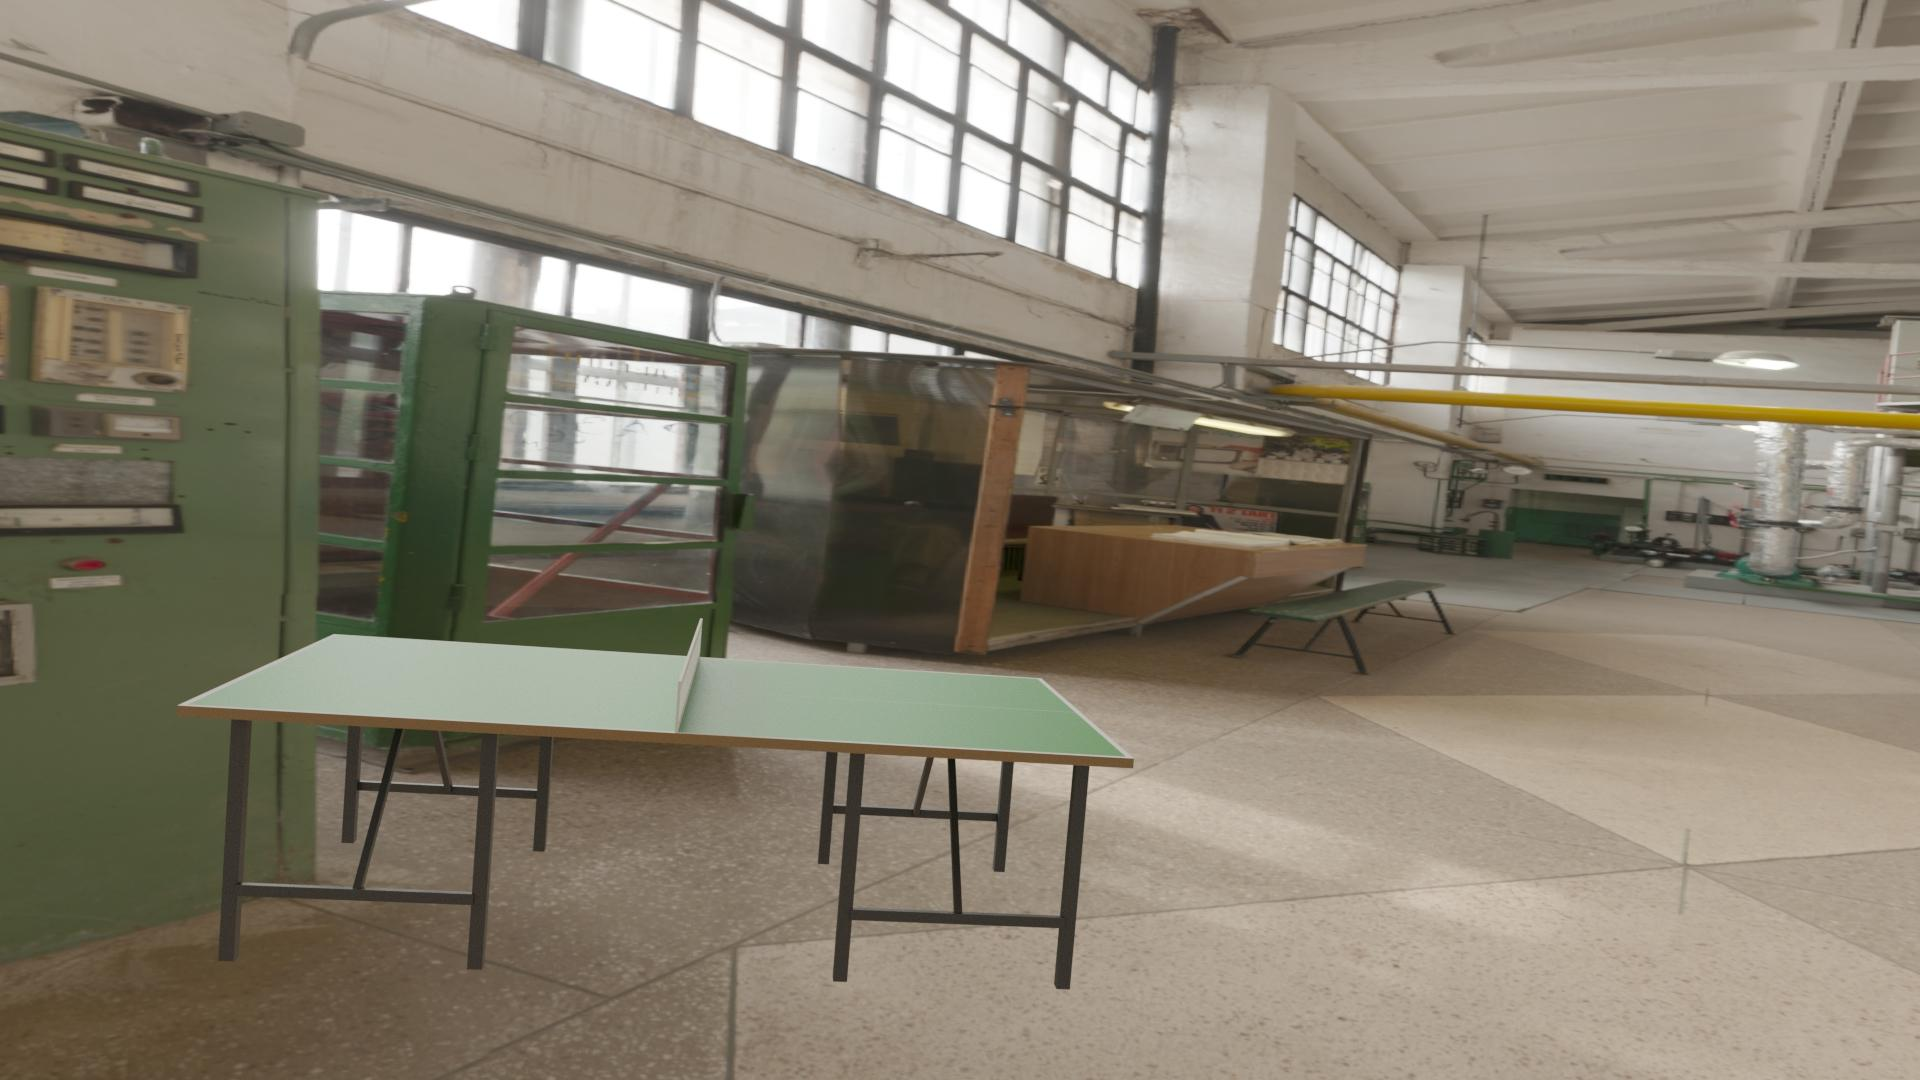table: (187, 636, 1126, 757)
